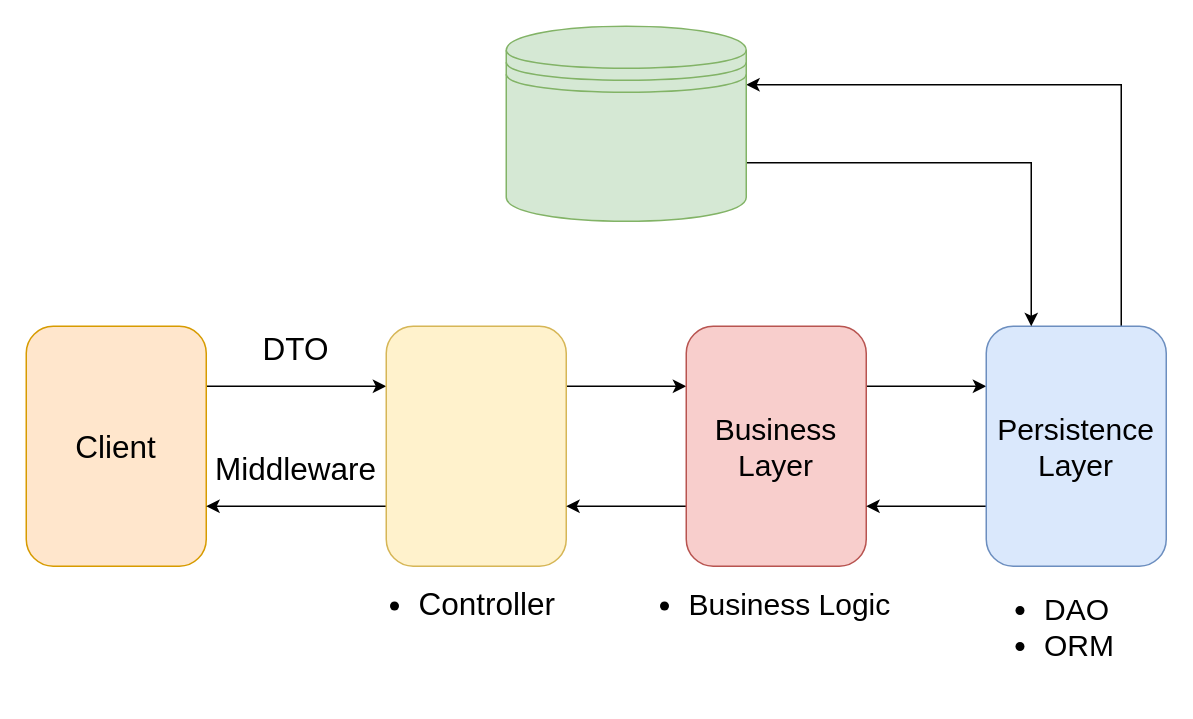
The diagram is 1193 pixels wide and 719 high, and some of its shapes have lost their labels. Here are the shapes that lost their labels. From the top down, the centre of each, then its label:
At (x=625, y=123): "Database".
At (x=475, y=445): "Presentation Layer".
